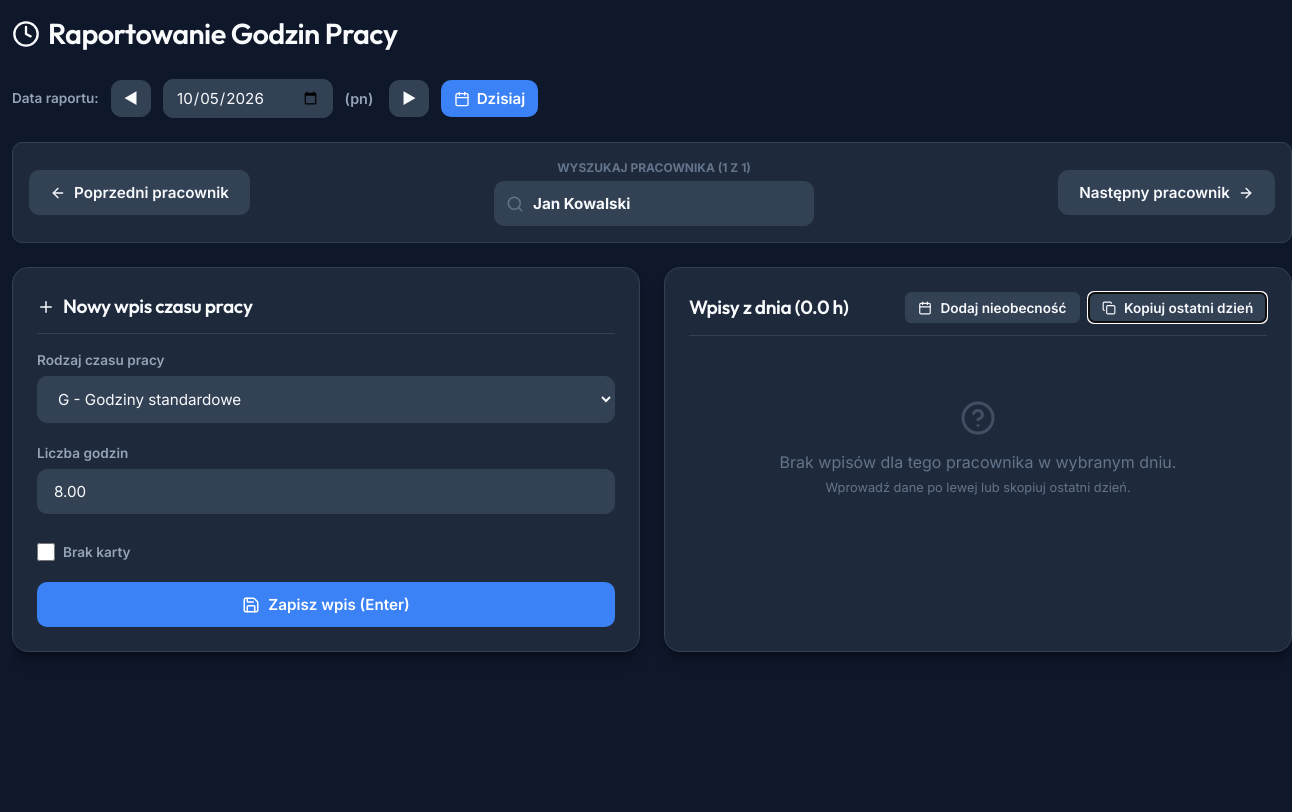
it: ReportingPanel — kopiowanie ostatniego dnia › nie uruchamia kolejnego żądania po Enter ani Space w trakcie operacji
Expected: the field showing "Jan Kowalski" below "Wyszukaj pracownika (" is shown, [494,181,814,226]
Step 1. Click the button "Kopiuj ostatni dzień" → (1178, 308), box [1088,292,1267,323]
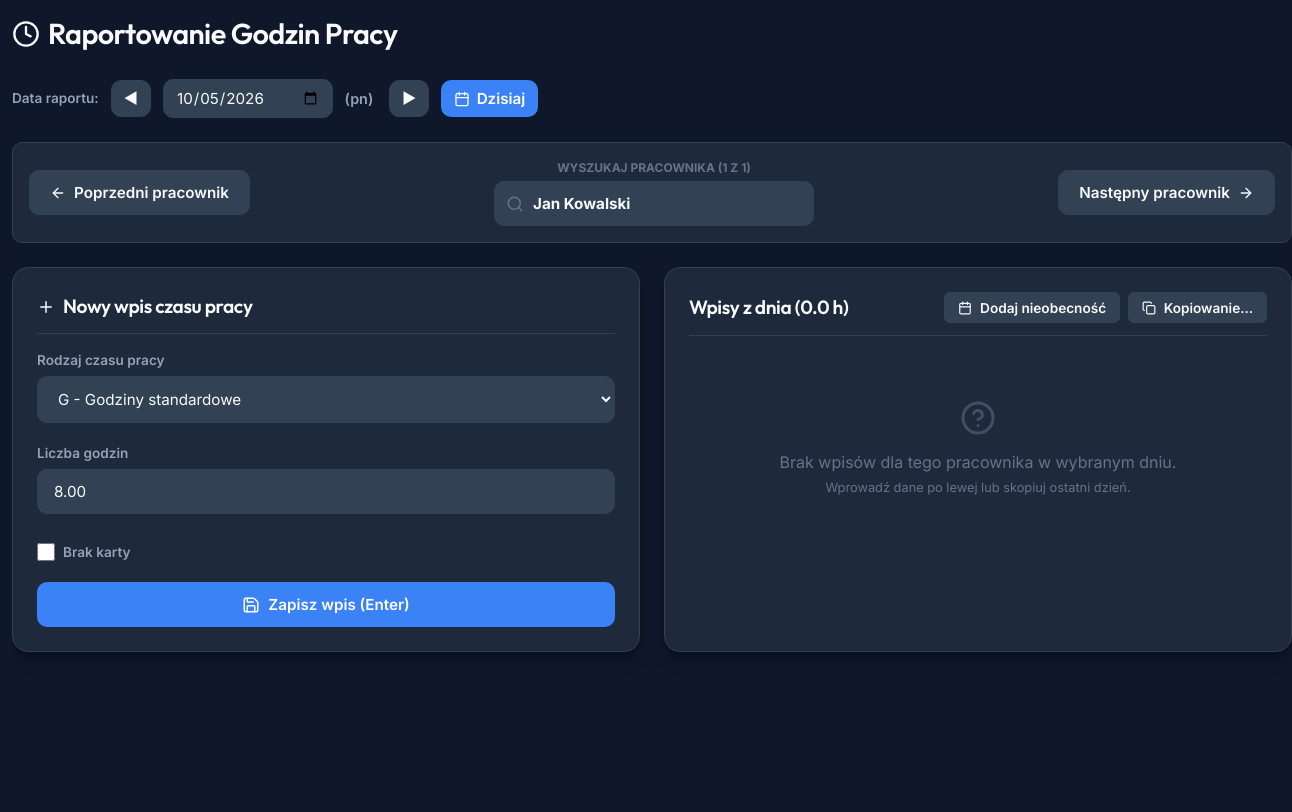
Step 2. Press Enter Space
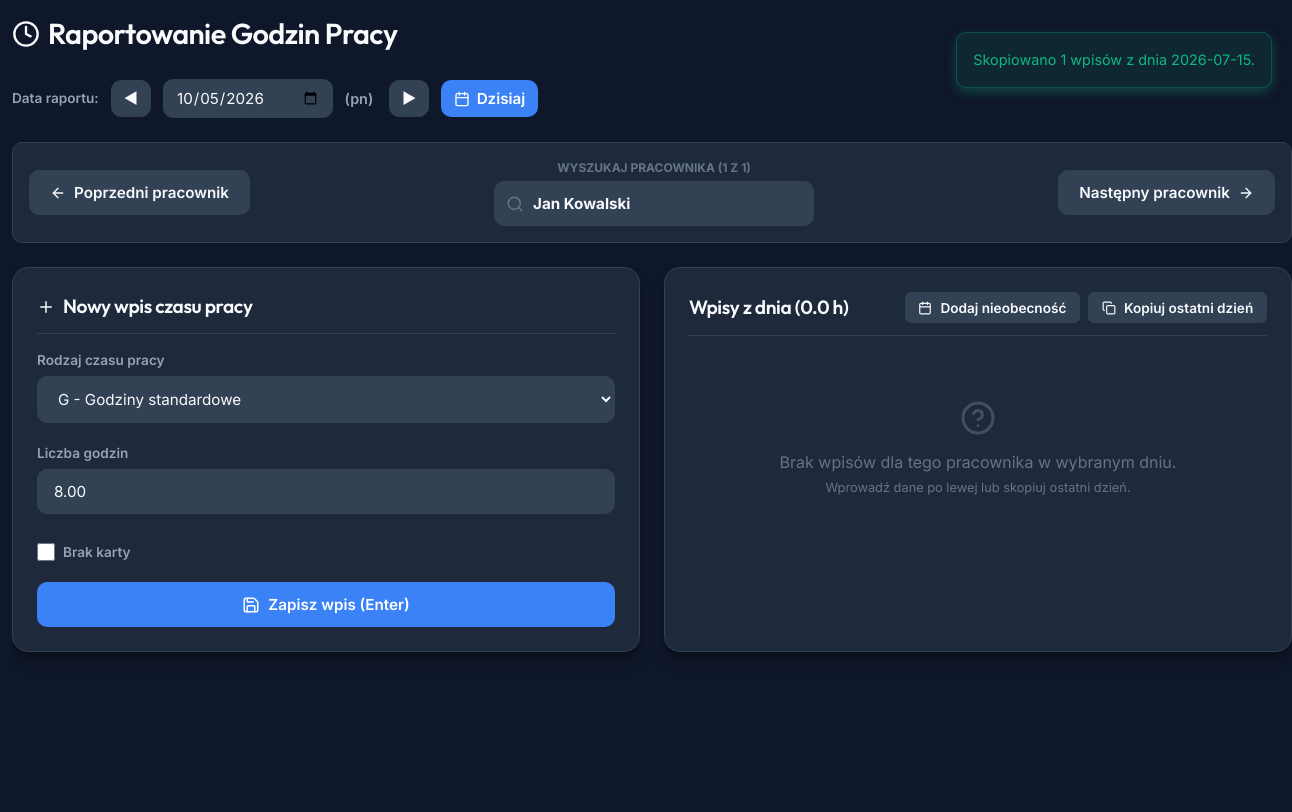
Expected: the button "Kopiuj ostatni dzień" is enabled, [1088,292,1267,323]
